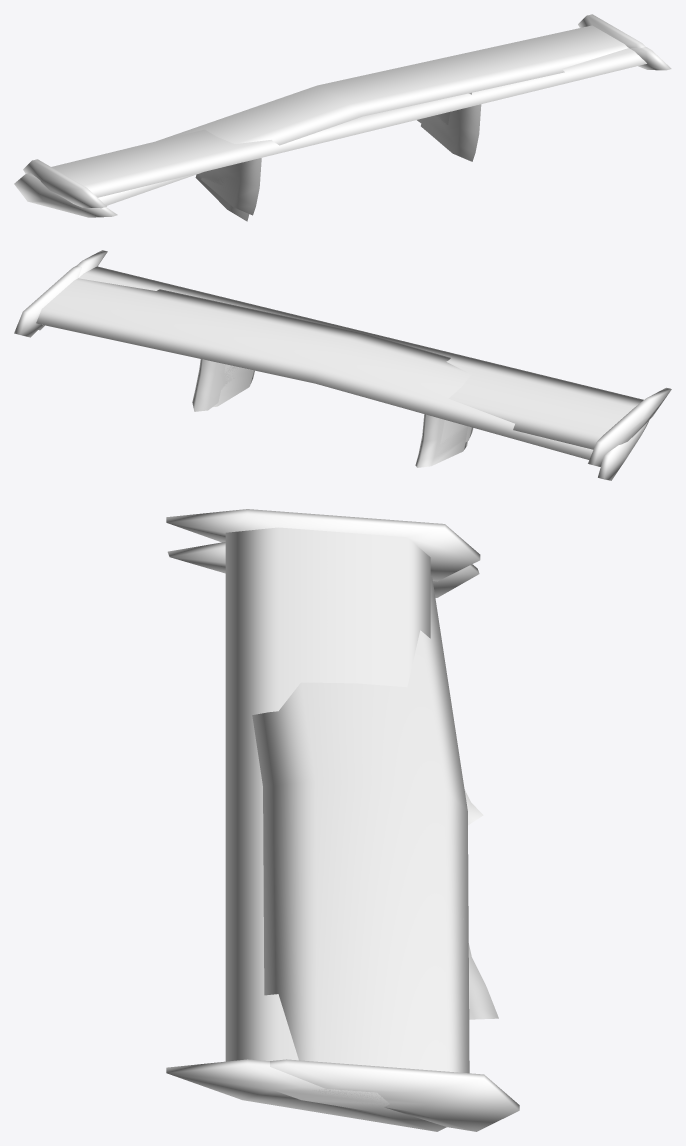
File: spl_c_l_b.glb
3 renders of one model, top to bottom at view 1: azimuth 30°, elevation 25°; view 2: azimuth 150°, elevation 25°; view 3: azimuth 270°, elevation 25°, orthographic. The views are drawn at different scales.
Parts seen in each view (by area): view 1: spl_c_l_b_dam, spl_c_l_b; view 2: spl_c_l_b_dam, spl_c_l_b; view 3: spl_c_l_b_dam, spl_c_l_b.
Boxes of the visible parts, bbox=[...] form: spl_c_l_b_dam: bbox=[14, 14, 645, 221]; spl_c_l_b: bbox=[23, 47, 671, 215]; spl_c_l_b_dam: bbox=[14, 266, 648, 480]; spl_c_l_b: bbox=[38, 250, 671, 466]; spl_c_l_b_dam: bbox=[167, 542, 519, 1131]; spl_c_l_b: bbox=[166, 509, 480, 1131].
Bounding box in the file's own units: 1.92 × 0.2675 × 0.5037.
1 material, 1 textured.
